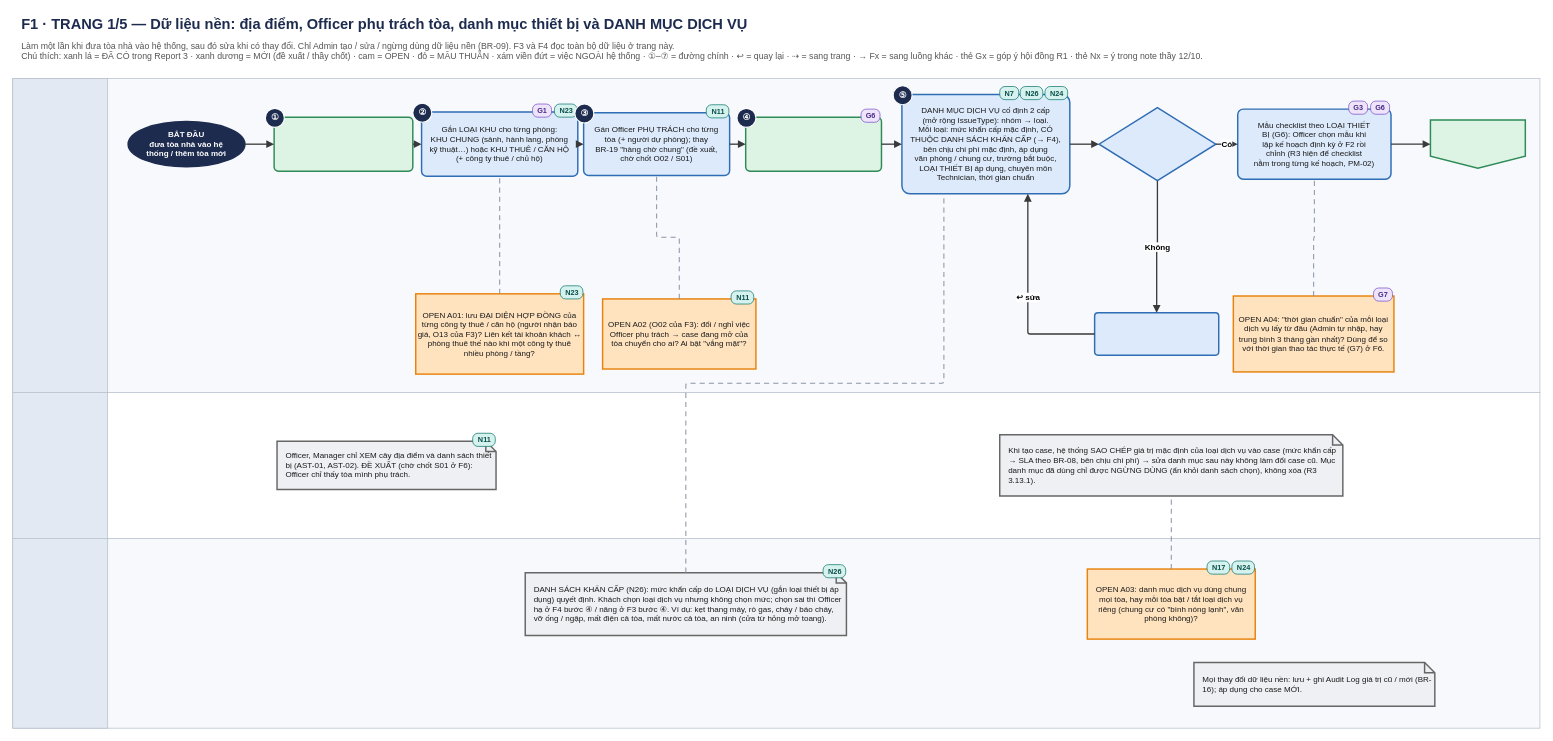
This 1553x741 diagram has some shape labels left out. Each missing label, with the box of its shape:
Admin: (12, 78, 108, 392)
Danh mục LOẠI THIẾT BỊ (ADM-06, DLG-23): điều hòa, máy bơm, thang máy, đèn…: (745, 116, 882, 172)
Hệ thống: (12, 538, 108, 728)
Officer phụ trách tòa: (12, 392, 108, 538)
Sửa lại mục danh mục (nút Lưu bị khóa): (1094, 312, 1219, 356)
Tạo cây địa điểm (AST-01, DLG-15): Tòa → Tầng → Phòng, tên + mã duy nhất: (273, 116, 413, 172)
Đủ thuộc tính bắt buộc, tên không trùng?: (1098, 107, 1216, 181)
⇢ Trang 2 Đăng ký thiết bị: (1429, 119, 1526, 169)
